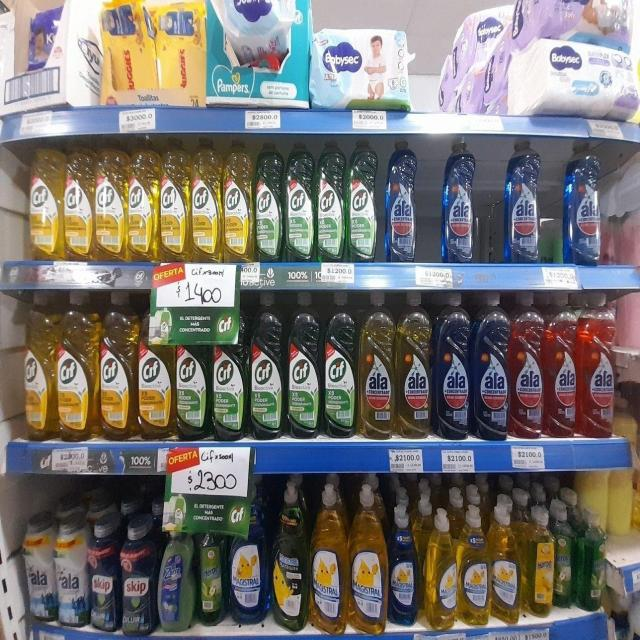ala_conc_amarillo: (359, 290, 395, 439), (396, 290, 432, 439)
ala_conc_azul: (433, 291, 471, 440), (472, 290, 509, 441), (562, 141, 602, 266), (503, 138, 540, 264), (441, 135, 476, 264), (384, 138, 418, 262)
ala_conc_rojo: (578, 294, 616, 438), (510, 291, 544, 440), (544, 292, 578, 439)
ala_crem_blanco: (627, 588, 640, 640)
cif_conc_bot_amarilla: (58, 289, 98, 442), (100, 290, 137, 441), (22, 290, 56, 443), (138, 304, 174, 441), (28, 147, 62, 262), (190, 144, 222, 262), (95, 146, 126, 262), (223, 144, 253, 263), (128, 146, 158, 262), (160, 145, 189, 262), (64, 148, 93, 262)
cif_conc_botella_verde: (286, 289, 321, 438), (323, 289, 357, 438), (250, 290, 284, 439), (212, 304, 248, 440), (346, 138, 378, 263), (284, 142, 315, 262), (176, 332, 210, 440), (316, 140, 345, 262), (254, 144, 283, 262)
magistral_con_amarillo: (310, 482, 348, 634), (349, 482, 386, 634), (425, 508, 457, 630), (458, 503, 489, 627), (490, 503, 521, 624)
magistral_con_azul: (228, 492, 268, 625), (388, 502, 419, 626)
zorro: (157, 528, 194, 633)
